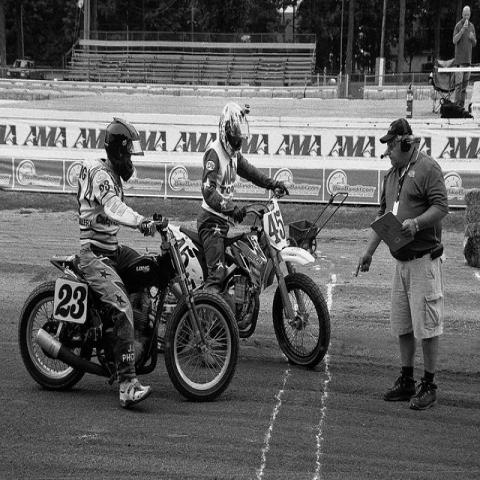motorcycle: (19, 214, 238, 401), (181, 192, 332, 369)
truck: (6, 55, 44, 80)
